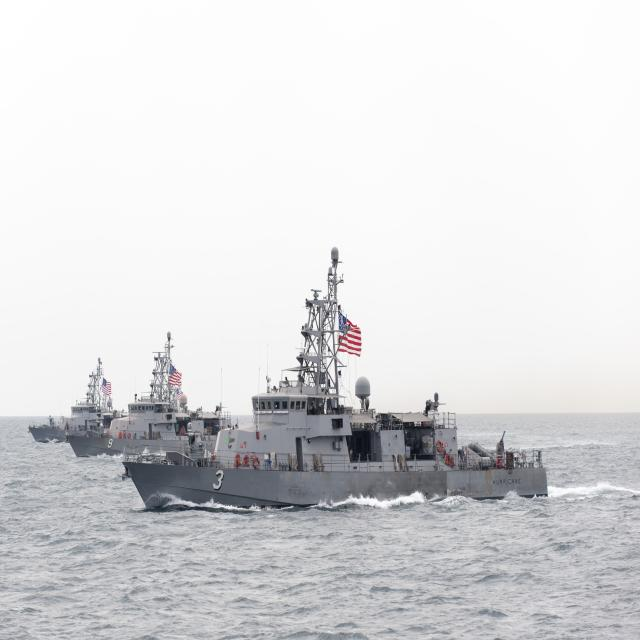navalvessels: (136, 260, 543, 507), (63, 356, 227, 458), (21, 359, 122, 439)
